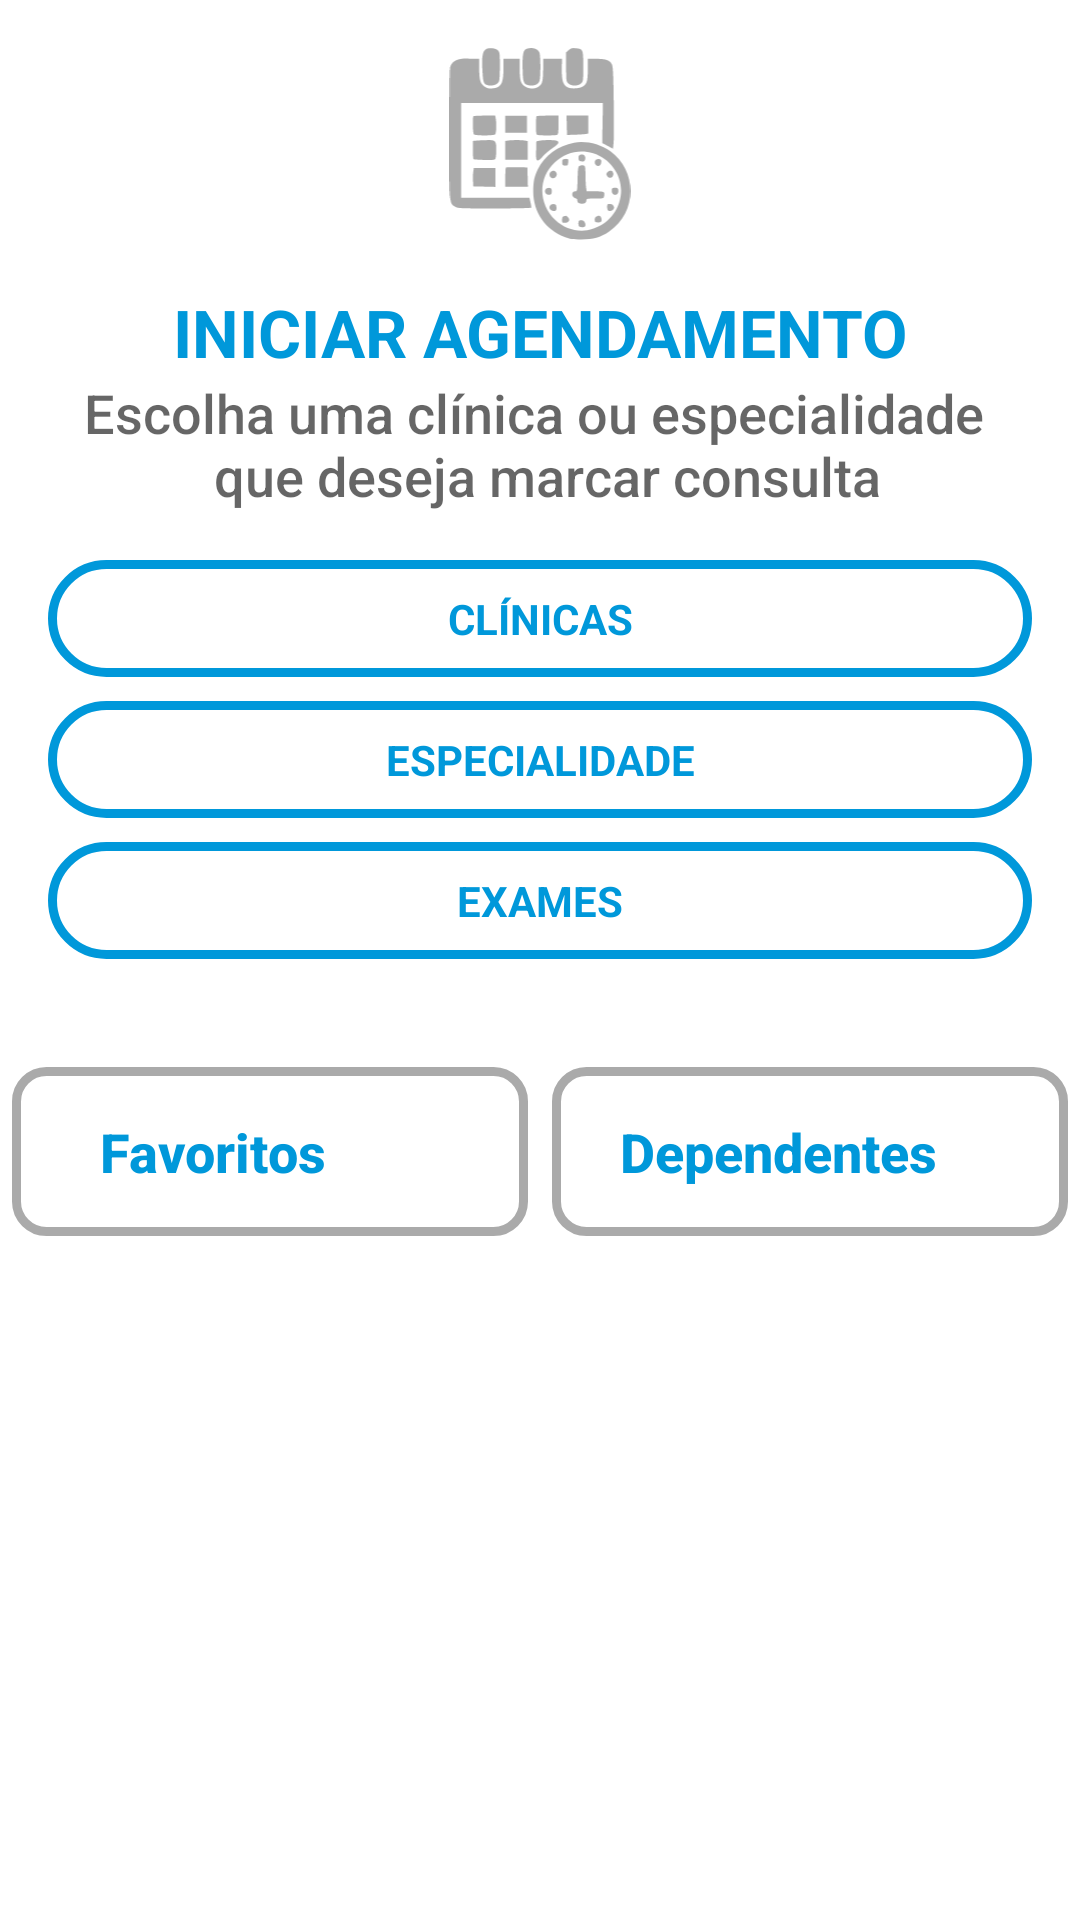

Locate icon controls on the screen. Image size 1080px x 1920px, boxes as (x1, y1, x2, y2).
calendario relogio: (449, 48, 631, 240)
